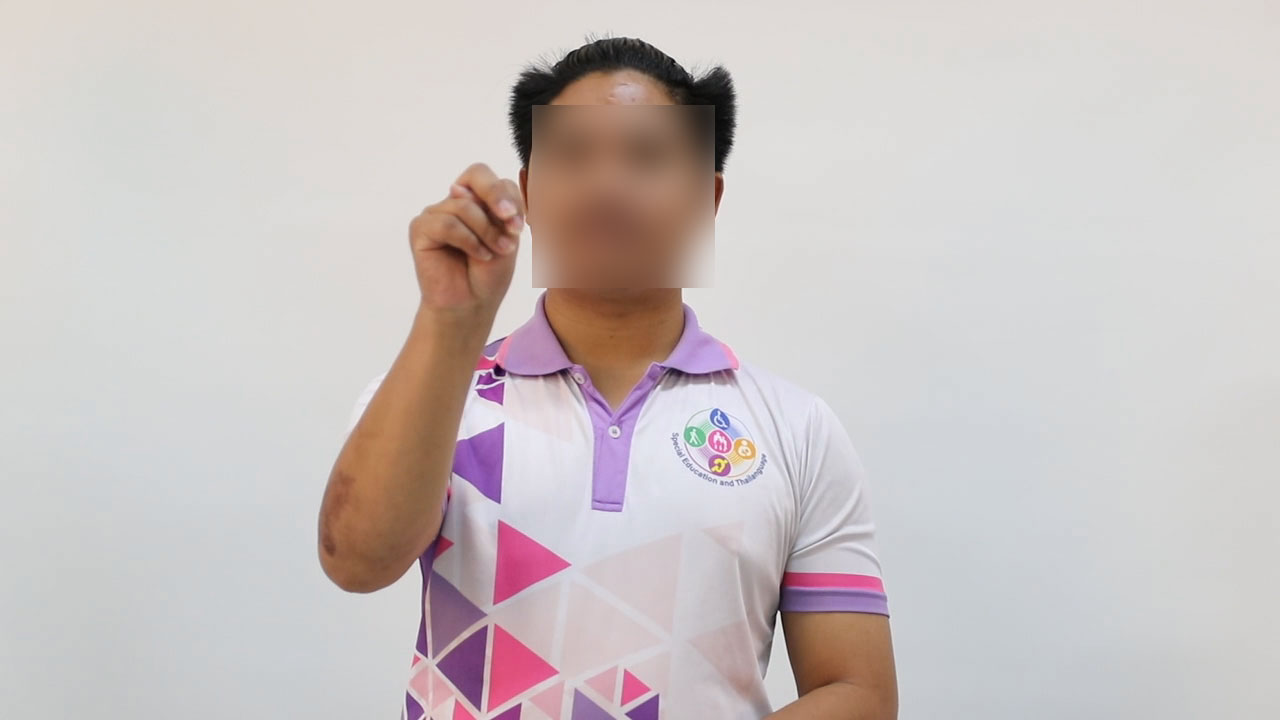nor: (399, 154, 537, 310)
